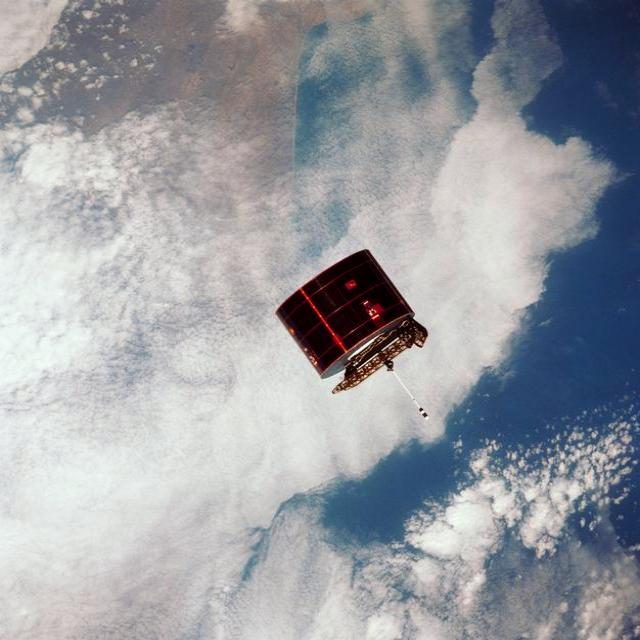satellite: (276, 250, 429, 419)
